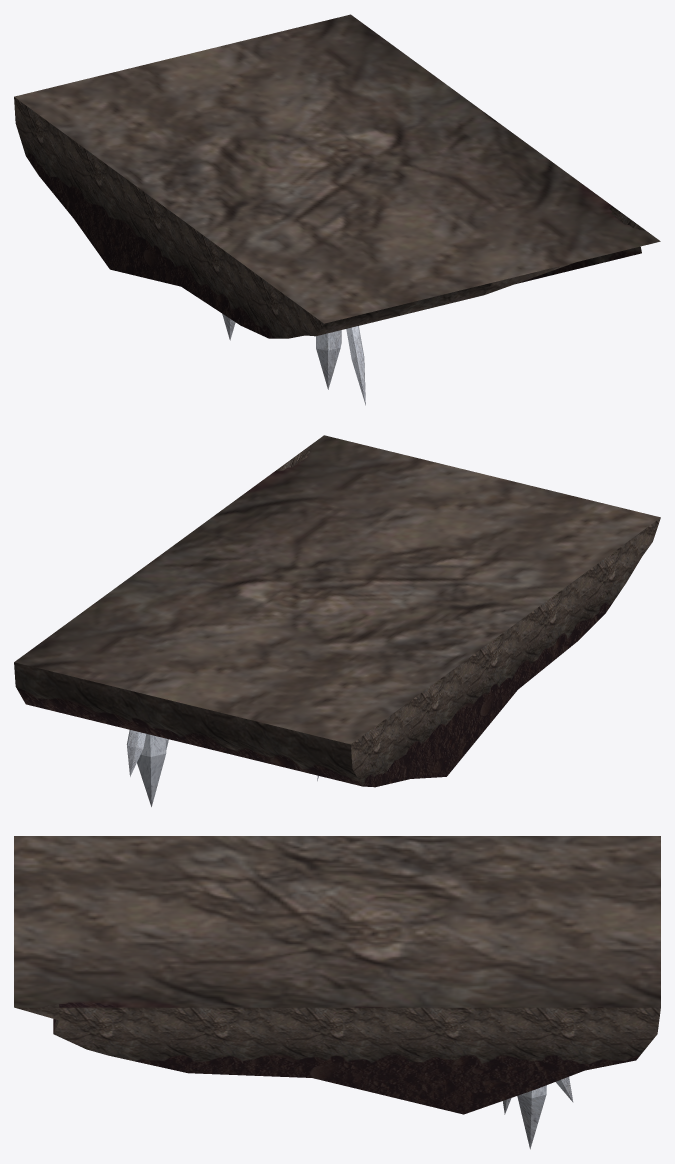
Rendered from LampLight_3DAsset_Platform4.FBX.
3 views of the same model, one above another, from view 1: azimuth 30°, elevation 25°; view 2: azimuth 150°, elevation 25°; view 3: azimuth 270°, elevation 25° (orthographic). The views are drawn at different scales.
Visible parts, largest first — view 1: platform004, Crystal004, Crystal005; view 2: platform004, Crystal, Crystal3; view 3: platform004, Crystal.
Part boxes in pixels (x1,y1,x2,y2): platform004: (14,14,660,338); Crystal004: (316,330,341,389); Crystal005: (346,326,365,405); platform004: (14,435,660,787); Crystal: (137,734,166,806); Crystal3: (126,730,145,776); platform004: (14,836,660,1114); Crystal: (517,1085,546,1149).
Bounding box in the file's own units: 36.18 × 17.76 × 57.71.
